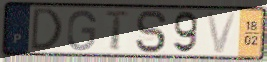9: (172, 10, 200, 54)
D: (29, 6, 64, 53)
G: (65, 8, 98, 52)
S: (134, 9, 169, 55)
T: (103, 10, 132, 52)
V: (204, 11, 239, 56)
